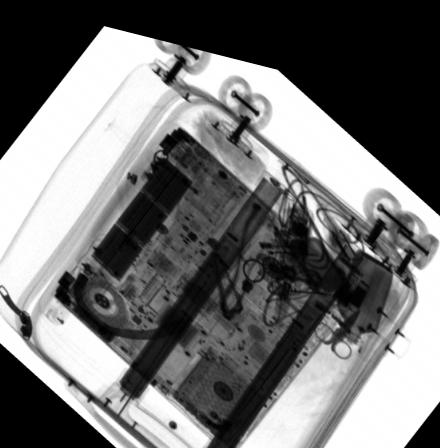Scissors: (311, 289, 366, 344)
